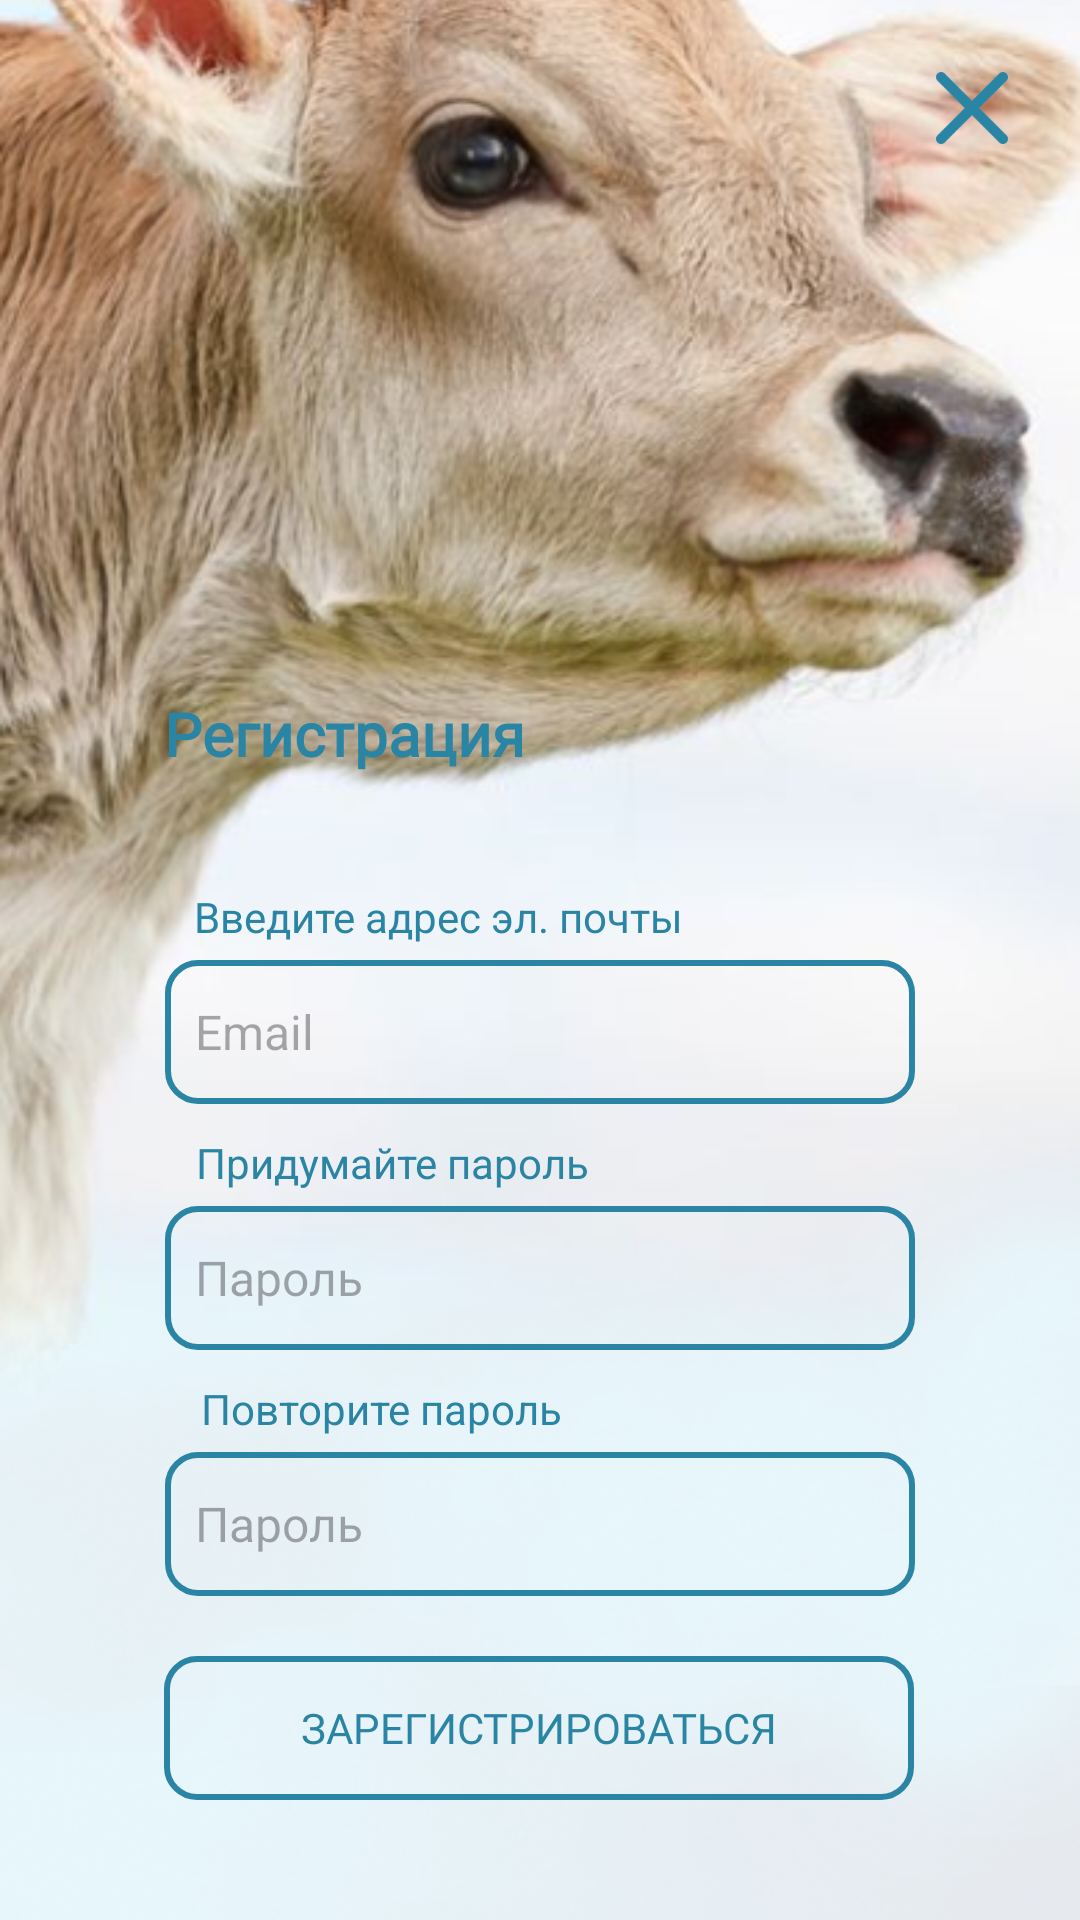

Screen size 1080w x 1920h. Icon name, then its box in pixels as (x1, y1, x2, y2):
close: (936, 72, 1008, 144)
